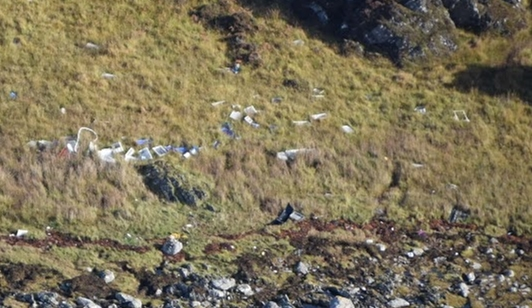scattered_barrel: (3, 35, 121, 119), (261, 82, 363, 168), (403, 96, 481, 194)
together_barrel: (24, 93, 262, 163)
white_in_green: (255, 182, 322, 241), (1, 207, 46, 251)
